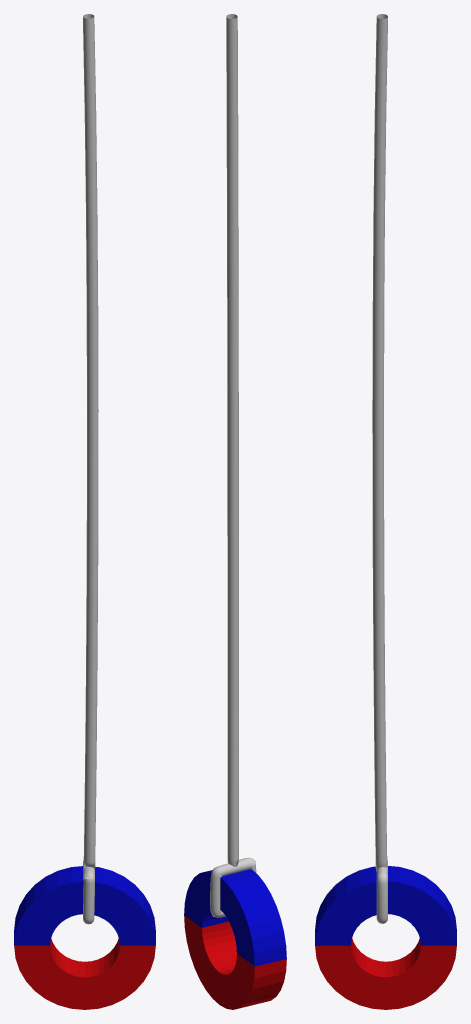
File: Magnet.fbx
The picture shows the model from 3 angles, left to right: view 1: azimuth 90°, elevation 25°; view 2: azimuth 210°, elevation 25°; view 3: azimuth 270°, elevation 25°; orthographic projection.
Visible parts, largest first — view 1: MagnetAndThread; view 2: MagnetAndThread; view 3: MagnetAndThread.
Part boxes in pixels (box(x1,y1,x2,y2)): MagnetAndThread: box(14, 14, 155, 1009); MagnetAndThread: box(184, 14, 286, 1009); MagnetAndThread: box(315, 14, 456, 1009).
Bounding box in the file's own units: 1.59 × 32.91 × 4.29.
